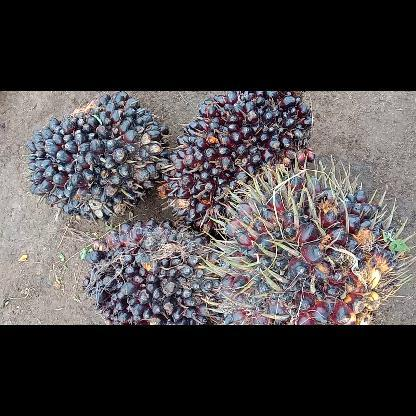TBS mentah: (210, 164, 402, 324), (159, 91, 317, 235), (25, 90, 173, 224), (80, 214, 230, 324)
